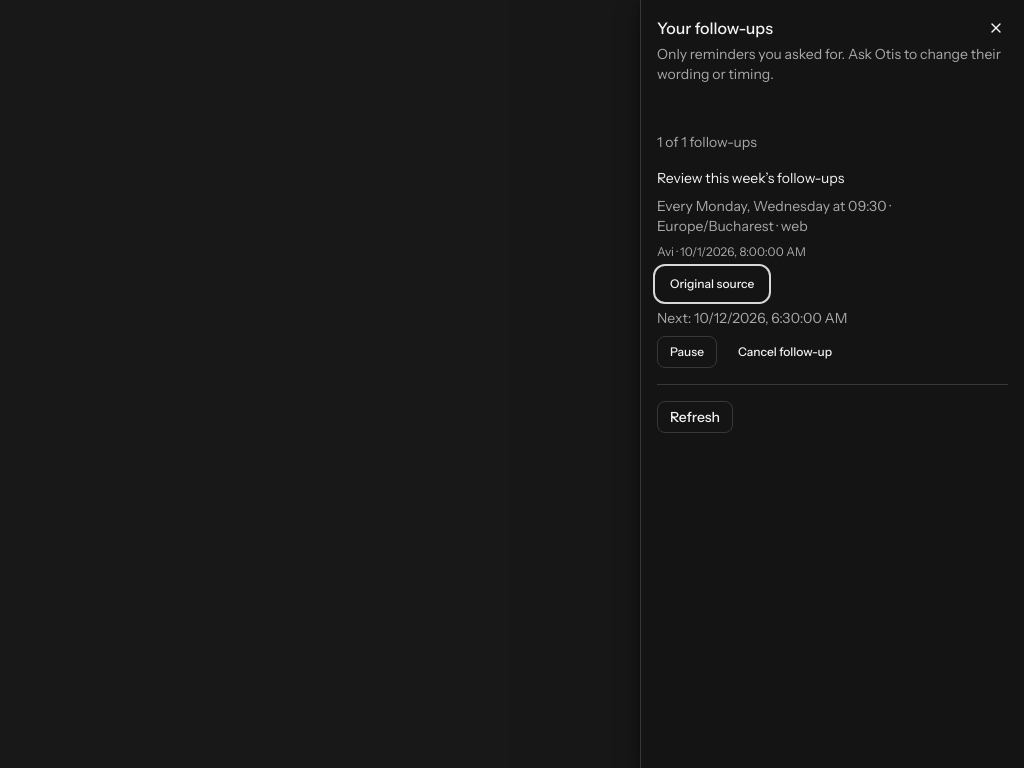
business capability controls › pauses the selected follow-up with stable retries, source attribution and saved Undo
The width and height of the screenshot is (1024, 768).
Click the button "Pause": {"x": 687, "y": 352} [657,336,717,368]
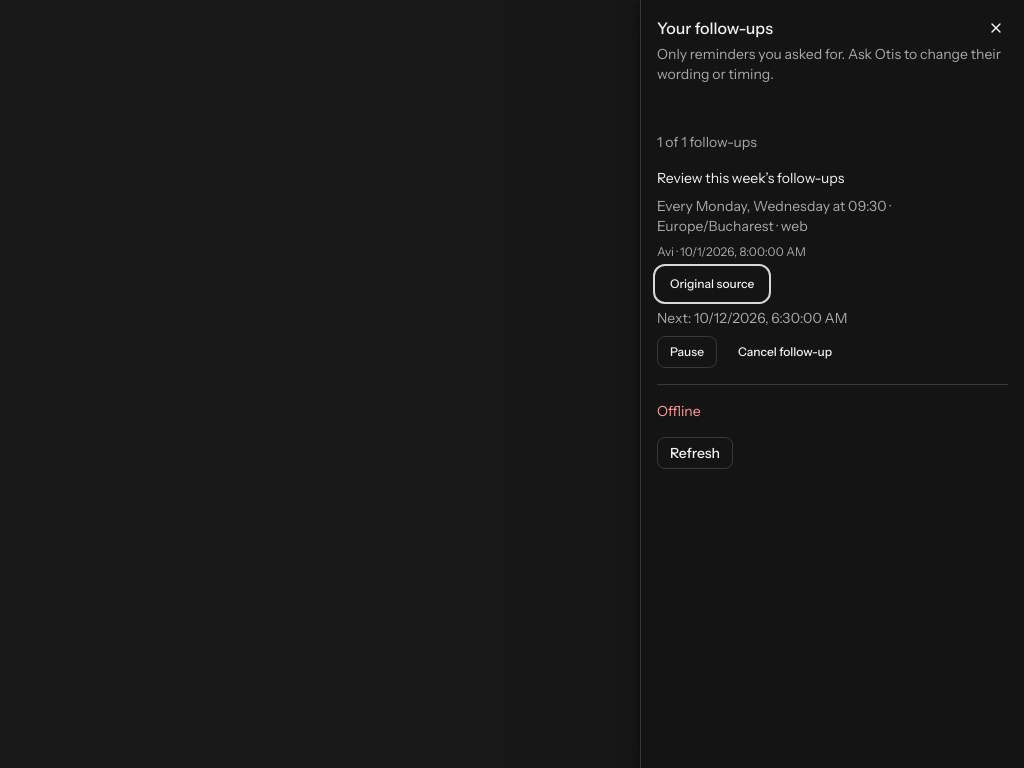
Click the button "Pause": {"x": 687, "y": 352} [657,336,717,368]
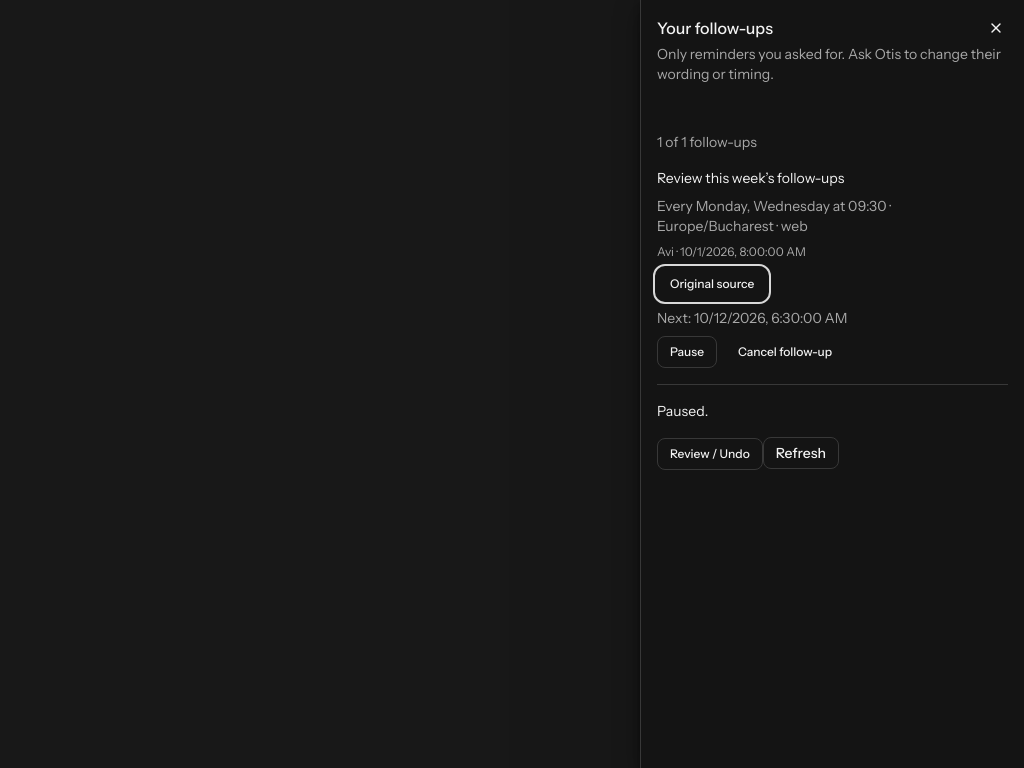
Expected: the text "Review / Undo" is shown, [657,438,763,470]
